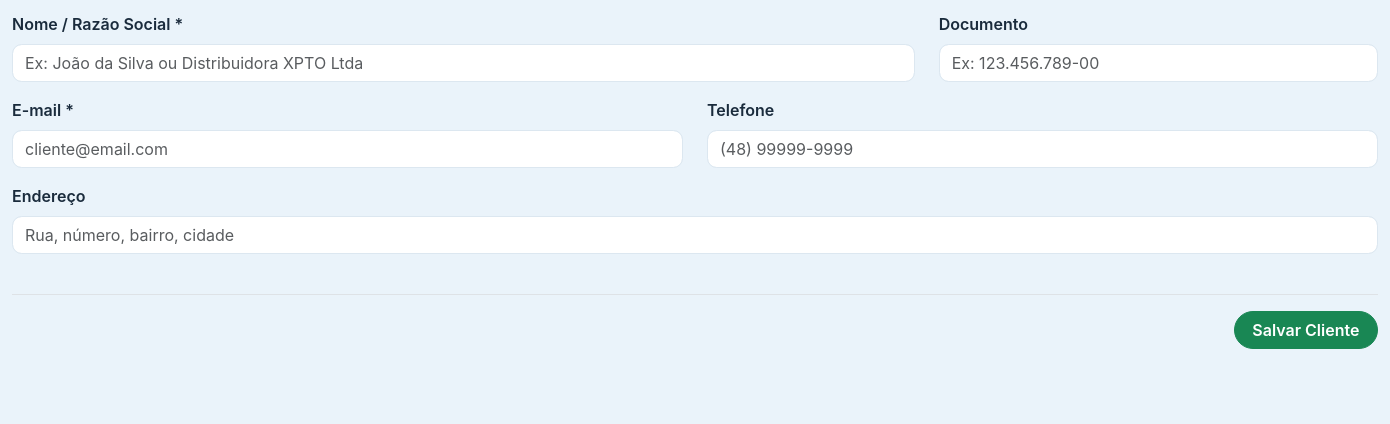
Organism FormCreateClient › deve exibir mensagem de erro se campos obrigatórios não forem preenchidos
Click the button "Salvar Cliente" at (1306, 330), box [1234, 311, 1378, 349]
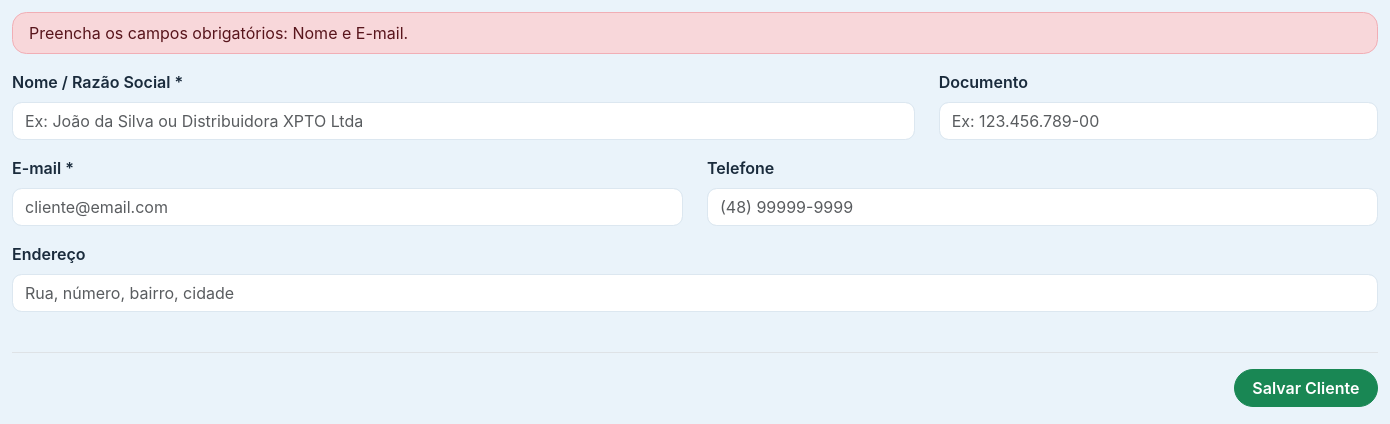
Now the text "Preencha os campos obrigatórios: Nome e E-mail." is shown, box [12, 12, 1378, 54]
